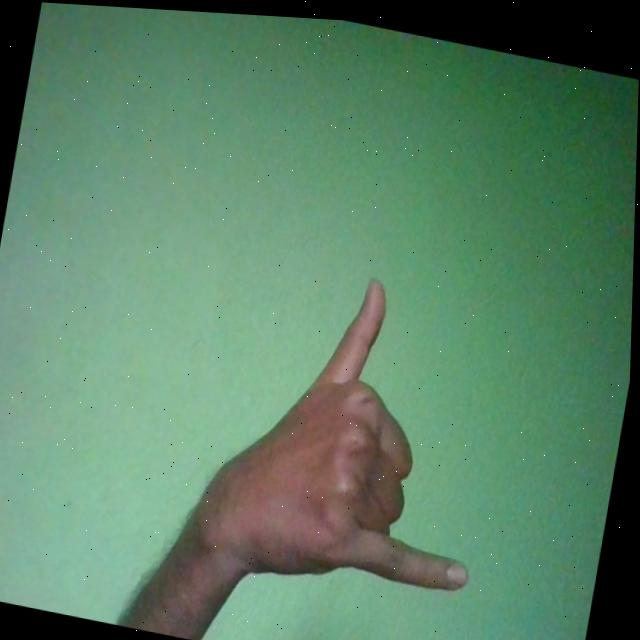Call Me: (186, 246, 516, 617)
